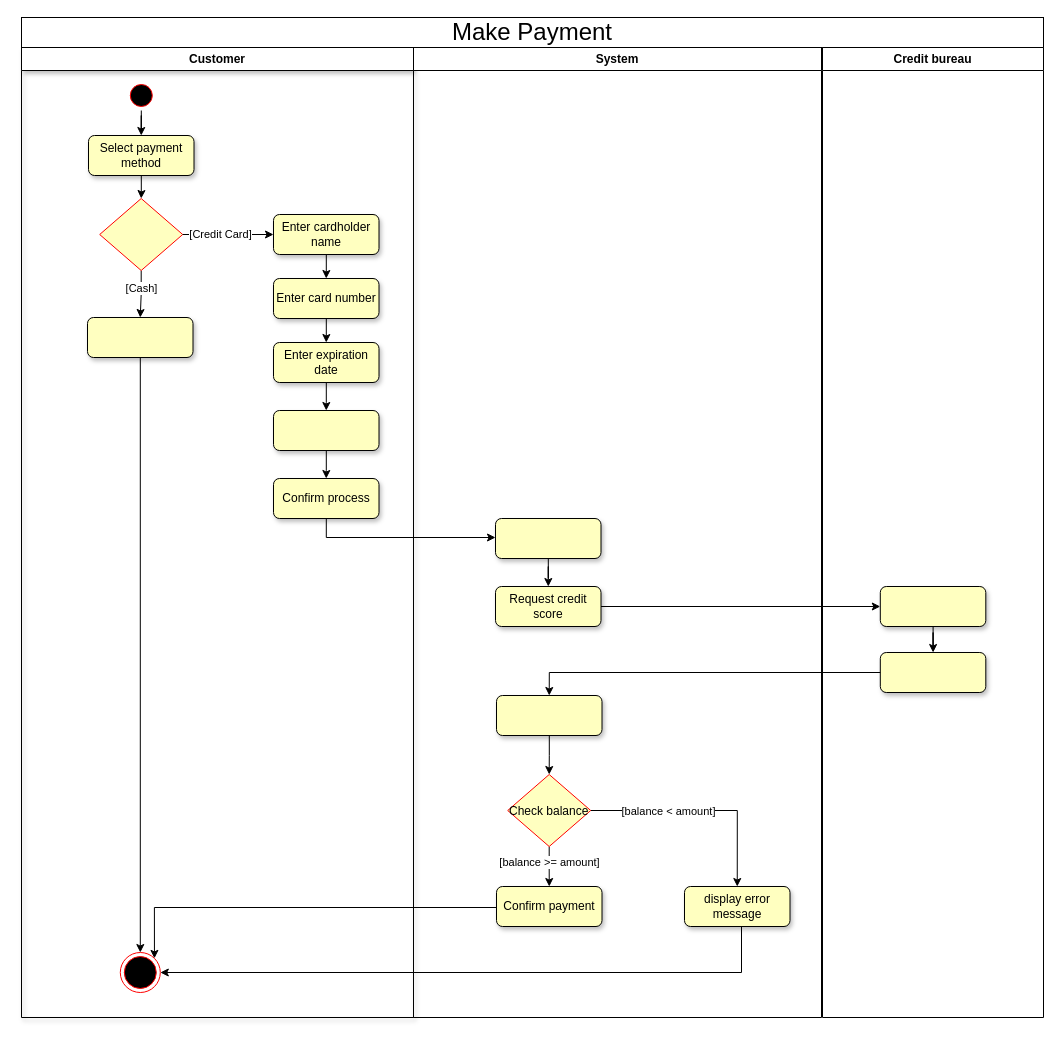
The diagram is 1061 pixels wide and 1042 high, and some of its shapes have lost their labels. Each missing label, with the centre of its shape:
"Cash or credit card" belongs at [141,234].
"Enter CVV" belongs at [326,432].
"Pay at delivering the order" belongs at [140,338].
"process request" belongs at [933,608].
"Receive credit score" belongs at [550,716].
"Send credit score" belongs at [933,674].
"Validate card info" belongs at [548,540].
